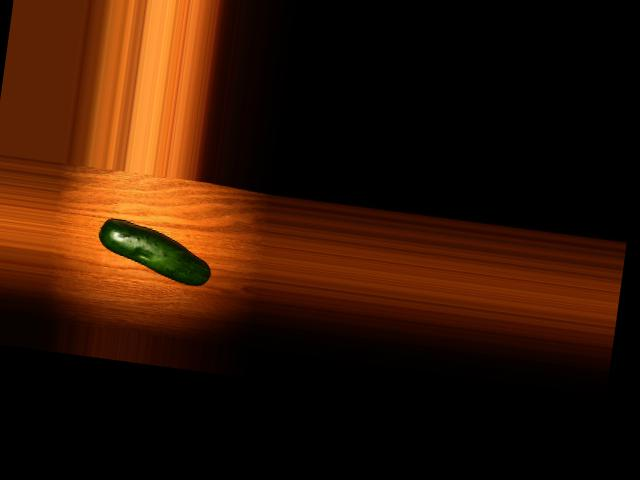cucumber: (95, 217, 216, 287)
